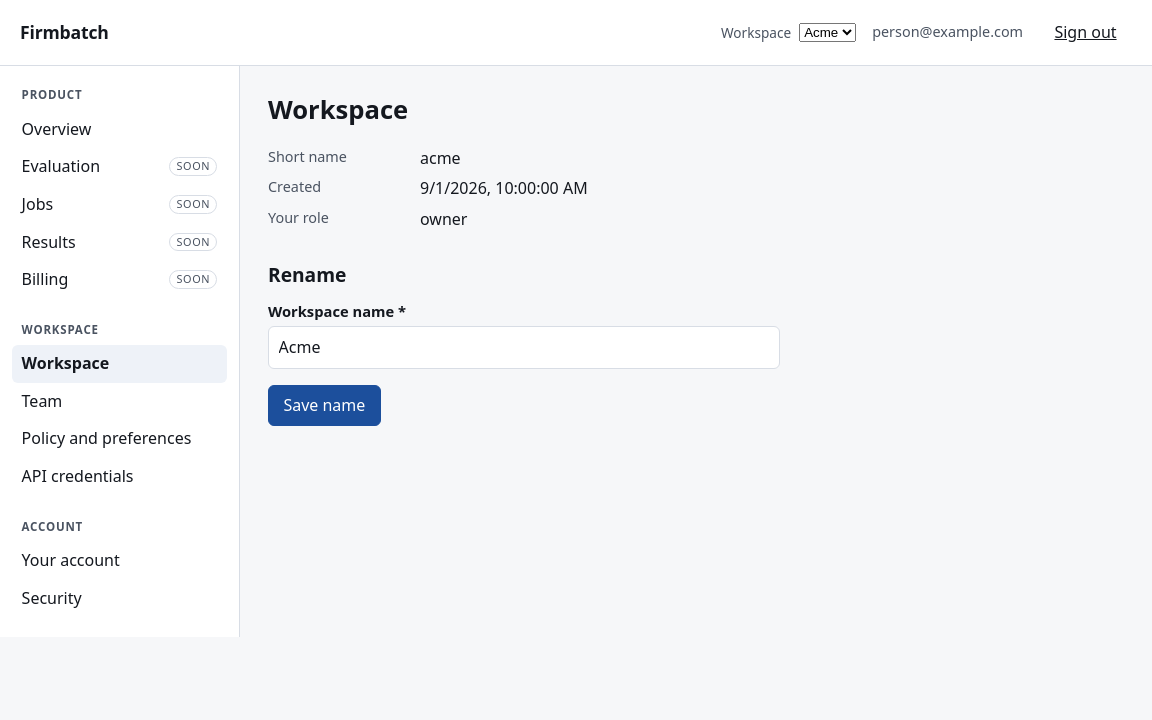
the expected-workspace contract, from the page's side › reports a stale action the server refused as a mismatch, and announces no success
Check: the 1st heading "Workspace" is shown, box [268,92,408,127]
Replace the text in the field labelled "Workspace name *" with "Renamed": (524,348) [268,326,780,369]
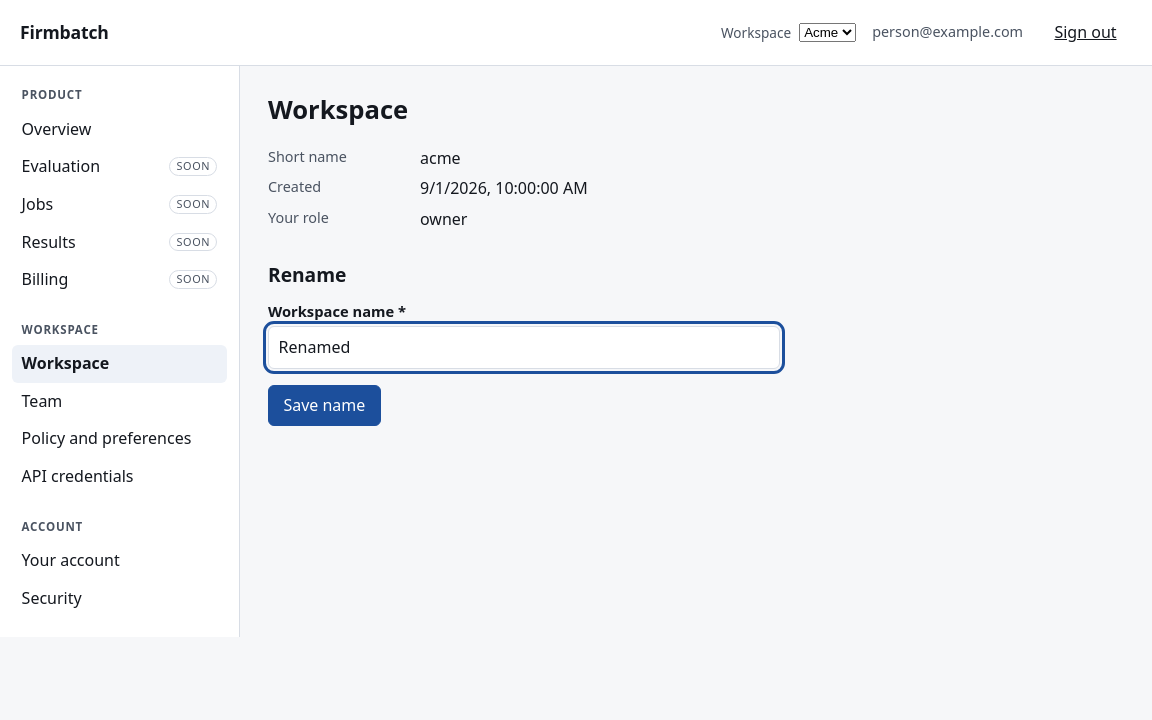
Click the button "Save name": (324,406) [268,385,381,426]
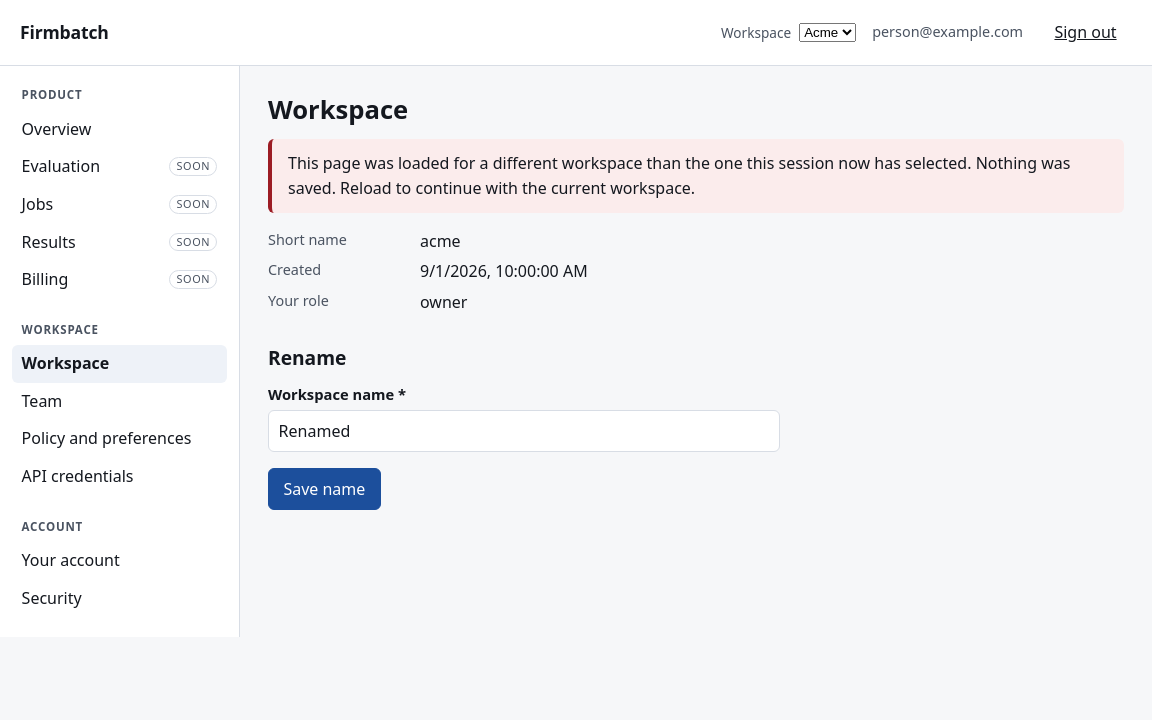
Check: the message shows "different workspace", box [288,152,1070,199]
